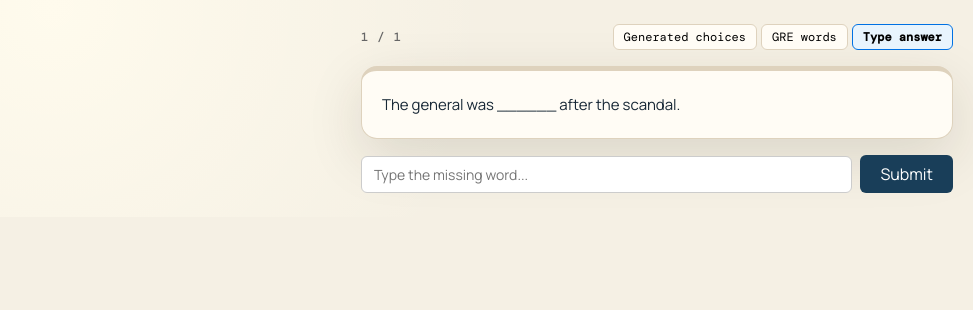
Test: FillInBlank - typed › rejects wrong answer
This screenshot has width=973, height=310.
Type "extol" into the field at (607, 174), box top-left (361, 156), bottom-right (852, 192)
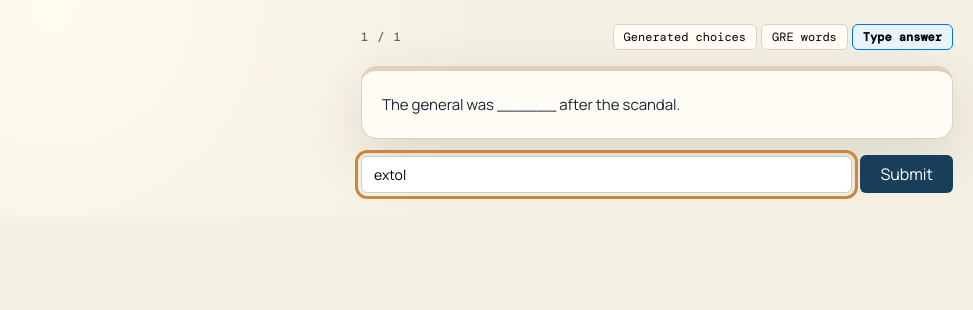
Click the button "Submit" at (907, 174), box top-left (860, 155), bottom-right (953, 193)
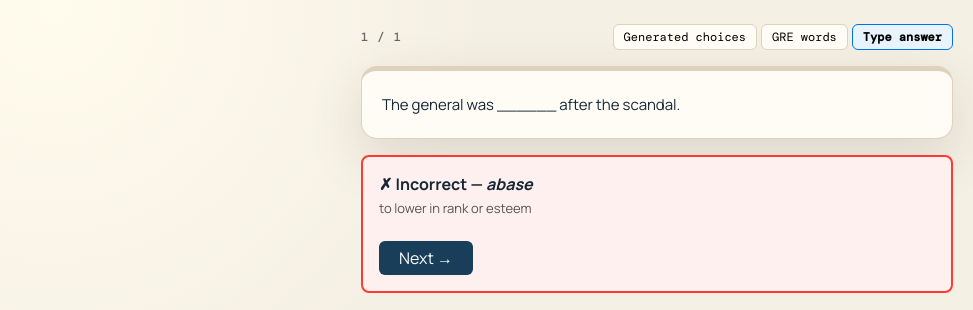
Check: the text "✗ Incorrect — abase" is shown, box top-left (379, 173), bottom-right (533, 195)
